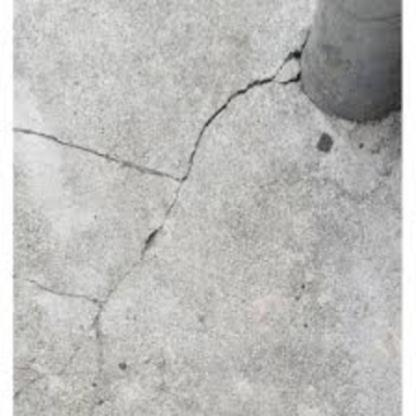SurfaceCrack: (11, 30, 304, 381)
